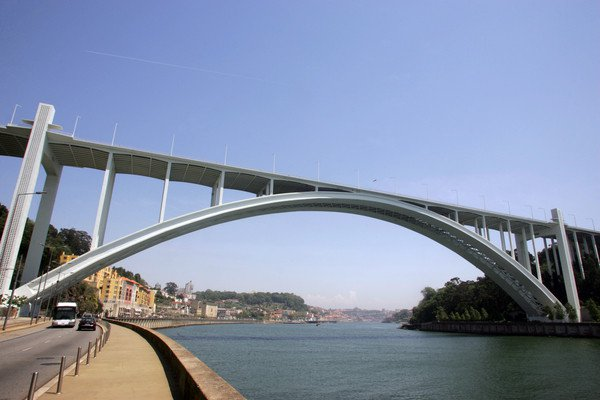arrabida: (0, 103, 599, 322)
